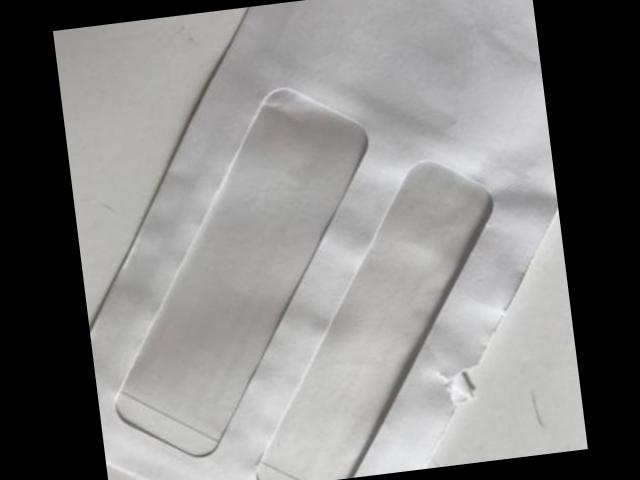cardboard paper: (90, 0, 562, 480)
